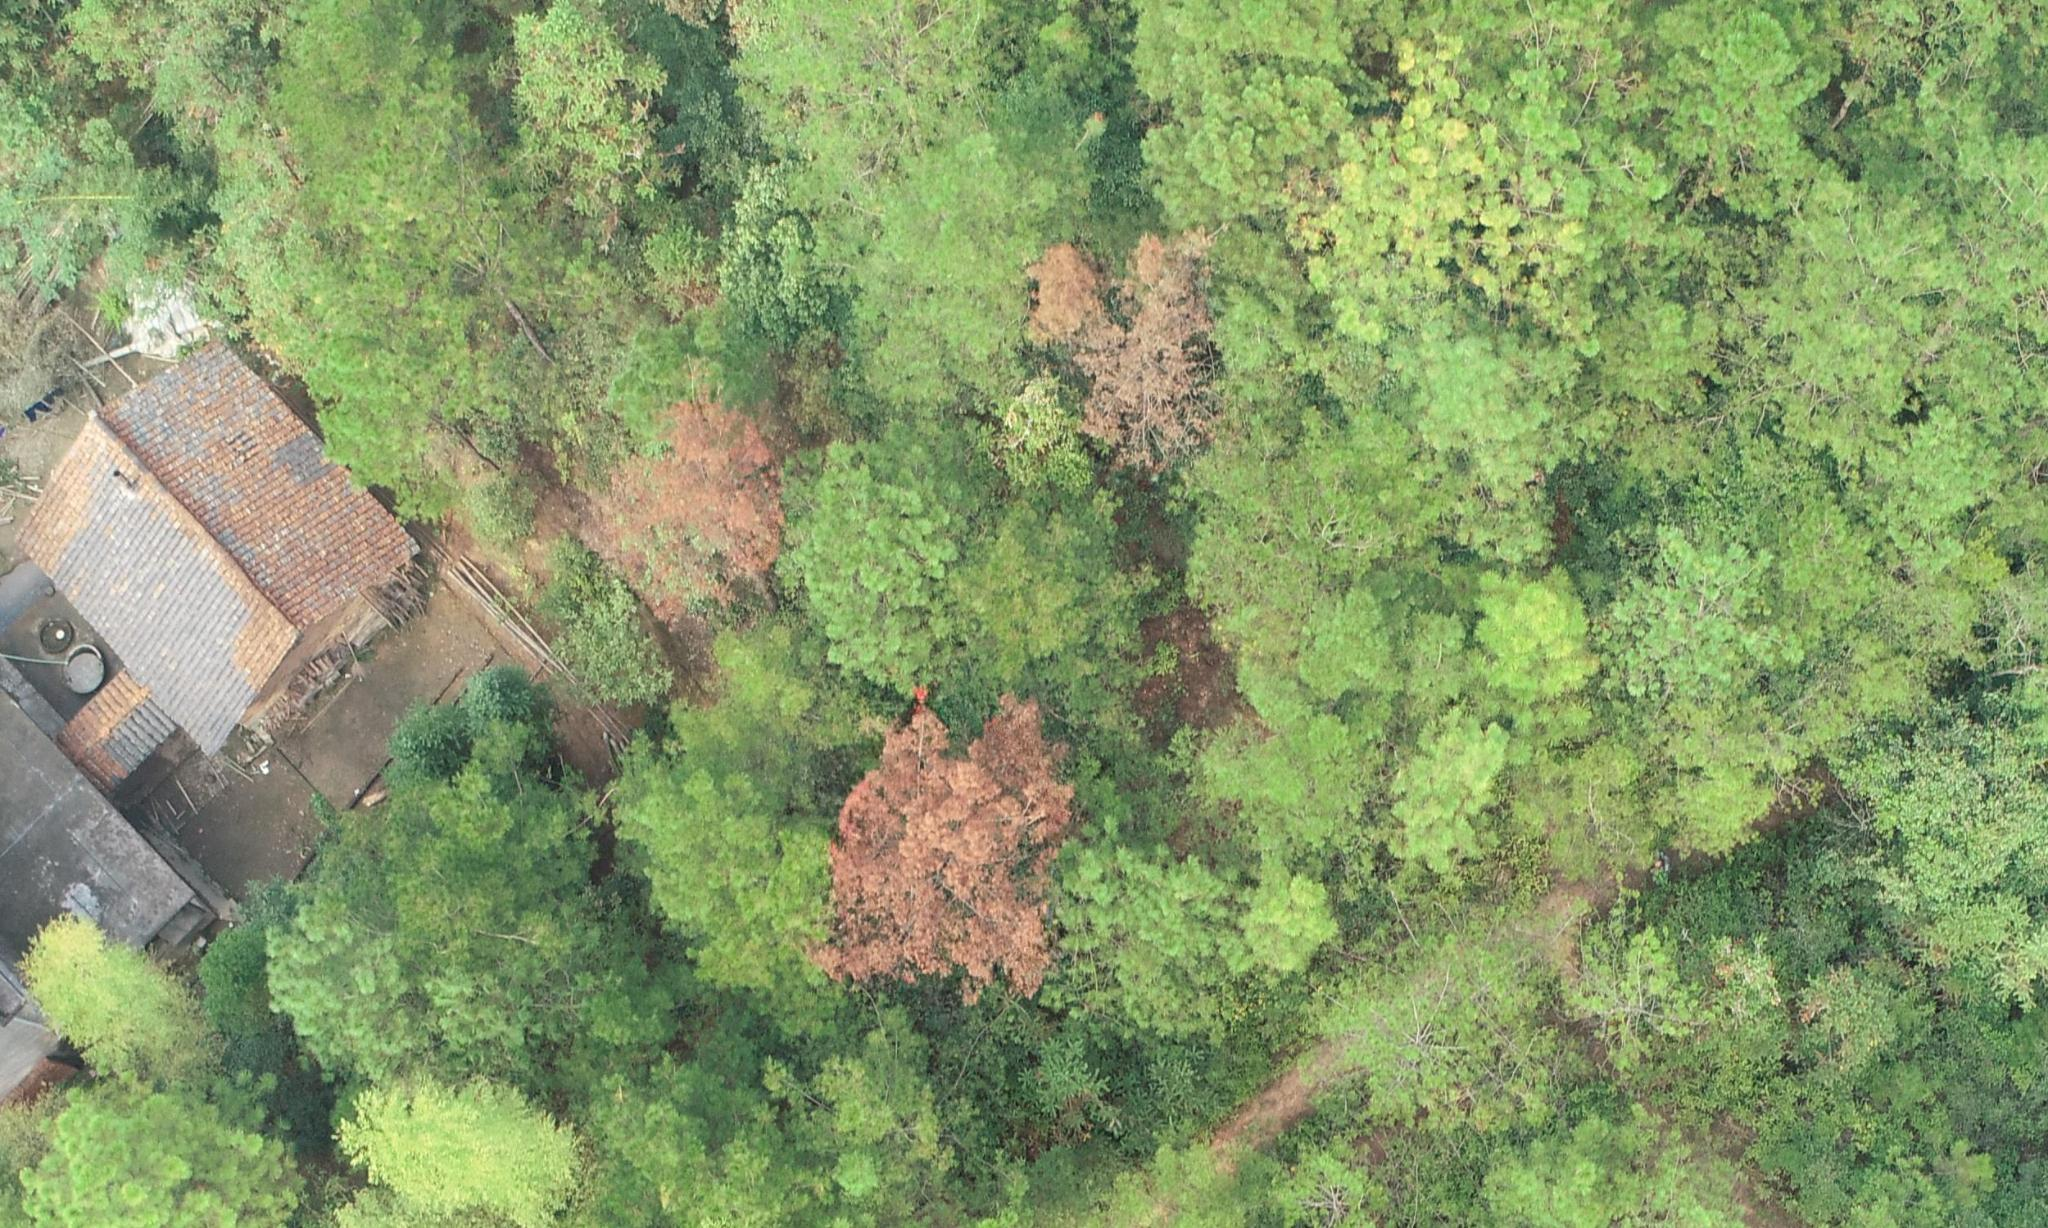heavy: (811, 675, 1074, 1010), (1017, 224, 1218, 475), (604, 398, 792, 599)
